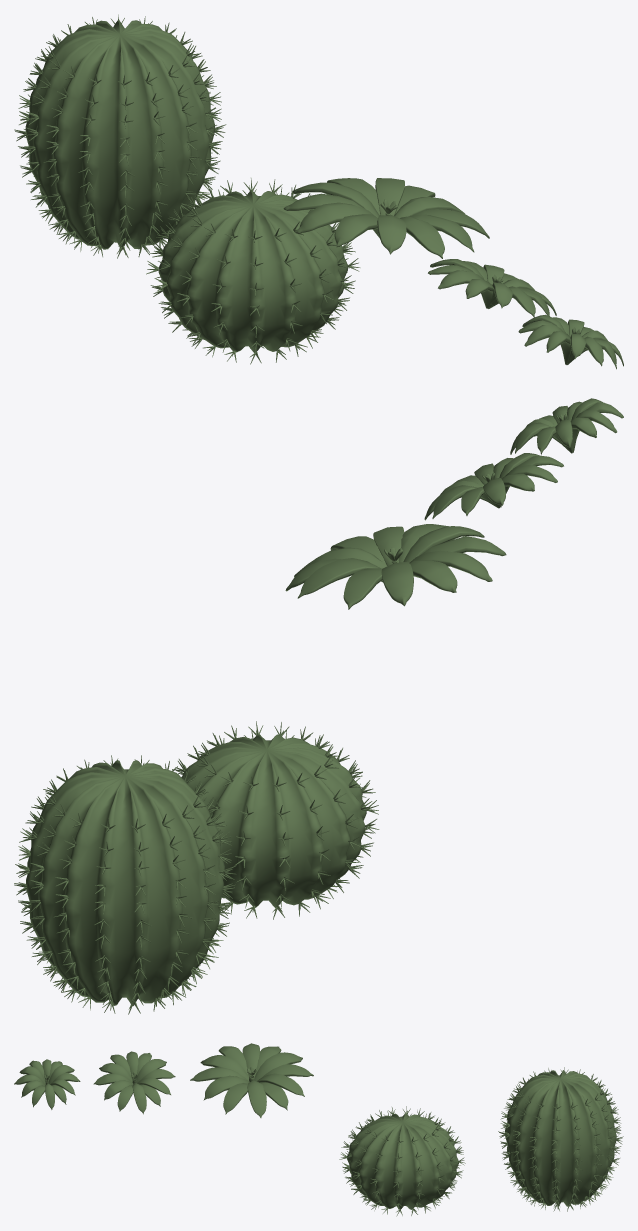
The model's file is cactus.fbx.
The picture shows the model from 3 angles, top to bottom: view 1: azimuth 30°, elevation 25°; view 2: azimuth 150°, elevation 25°; view 3: azimuth 270°, elevation 25°; orthographic projection. The views are drawn at different scales.
Parts seen in each view (by area): view 1: cactus_body_v2_, cactus_body_v1_, cactus_flower_v1_, cactus_flower_v2_, cactus_flower_v3_; view 2: cactus_body_v2_, cactus_body_v1_, cactus_flower_v1_, cactus_flower_v2_, cactus_flower_v3_; view 3: cactus_body_v2_, cactus_body_v1_, cactus_flower_v1_, cactus_flower_v2_, cactus_flower_v3_.
Part boxes in pixels (<box>): cactus_body_v2_: <box>14,14,226,258</box>; cactus_body_v1_: <box>146,178,360,364</box>; cactus_flower_v1_: <box>283,178,489,258</box>; cactus_flower_v2_: <box>428,259,556,317</box>; cactus_flower_v3_: <box>518,314,623,369</box>; cactus_body_v2_: <box>14,755,236,1014</box>; cactus_body_v1_: <box>172,721,379,919</box>; cactus_flower_v1_: <box>285,524,506,609</box>; cactus_flower_v2_: <box>424,453,563,520</box>; cactus_flower_v3_: <box>510,398,623,454</box>; cactus_body_v2_: <box>498,1067,623,1211</box>; cactus_body_v1_: <box>339,1106,465,1216</box>; cactus_flower_v1_: <box>190,1043,313,1117</box>; cactus_flower_v2_: <box>93,1051,175,1114</box>; cactus_flower_v3_: <box>14,1059,80,1109</box>.
Size of the model in its own units: 534 by 647 by 2539.
